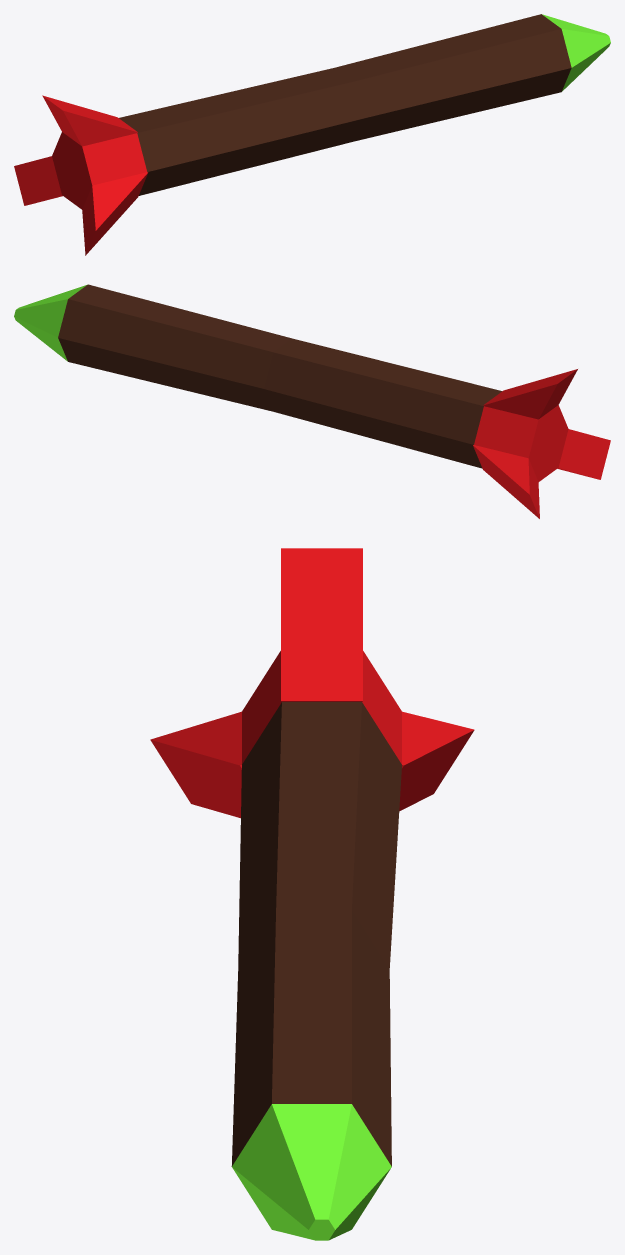
The model's file is dart.fbx.
The picture shows the model from 3 angles, top to bottom: view 1: azimuth 30°, elevation 25°; view 2: azimuth 150°, elevation 25°; view 3: azimuth 270°, elevation 25°; orthographic projection. The views are drawn at different scales.
Parts seen in each view (by area): view 1: Dart; view 2: Dart; view 3: Dart.
Boxes of the visible parts, x1,y1,x2,y2 form: Dart: (14, 14, 610, 255); Dart: (14, 284, 610, 518); Dart: (150, 548, 474, 1240).
Size of the model in its own units: 75.08 by 16.65 by 19.17.
